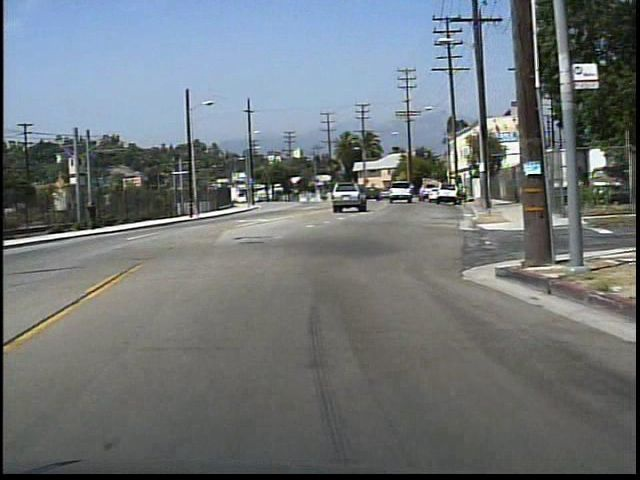person: (89, 198, 103, 231)
